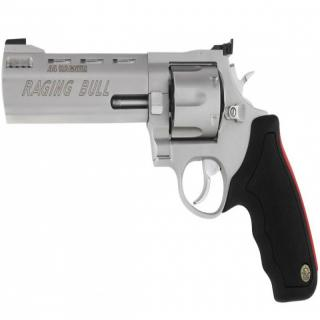gun: (3, 31, 316, 304)
